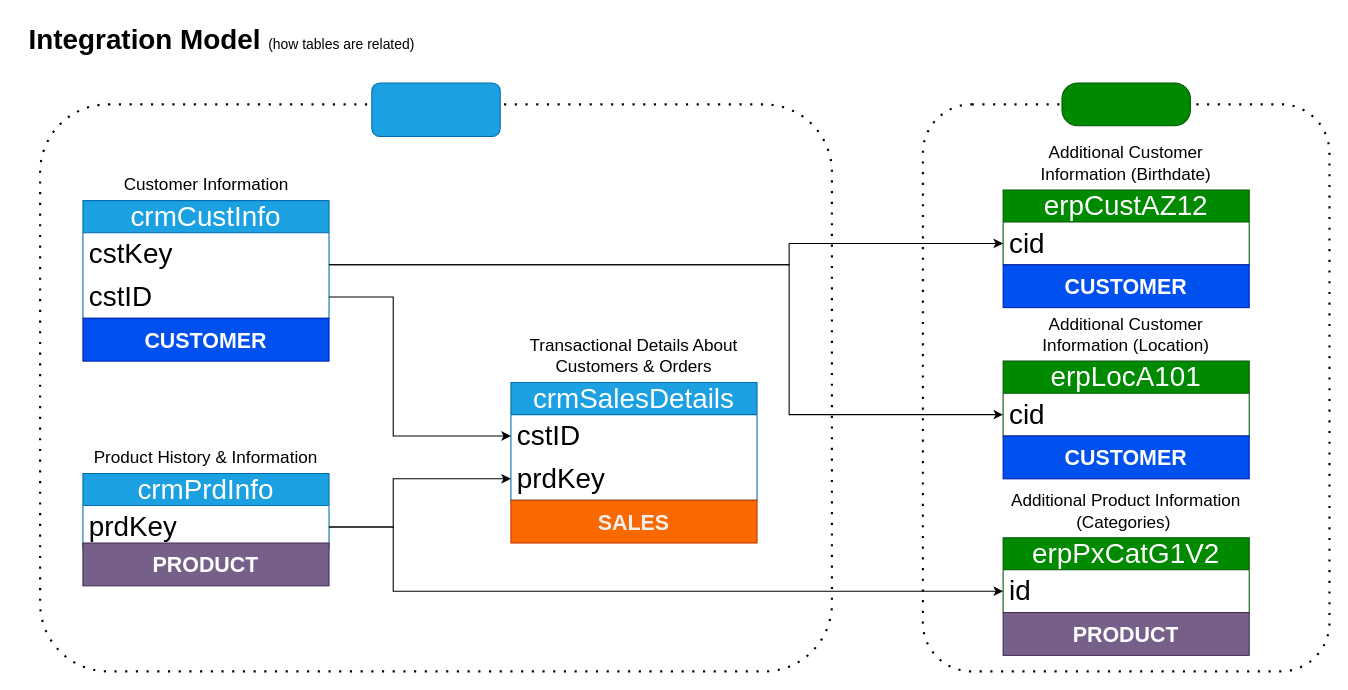
This 1348x690 diagram has some shape labels left out. The shapes that lost their labels are listed below. From the top down, each one's centre as x and y in pixels, then its label:
At point (435, 109): "CRM".
At point (1125, 104): "ERP".
